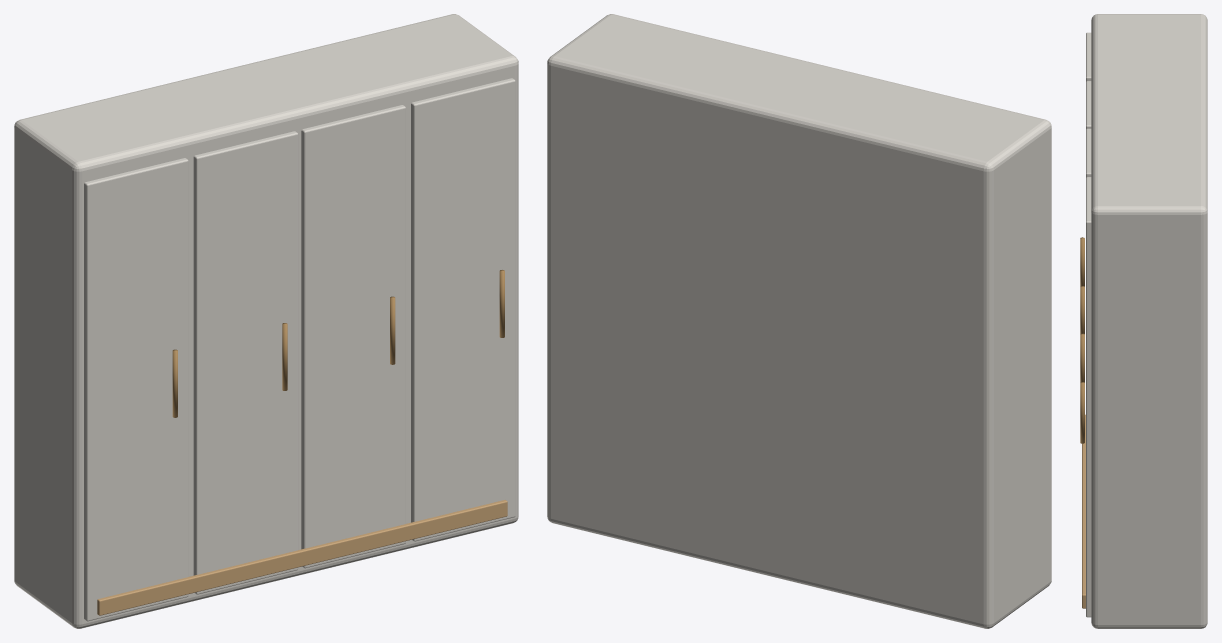
File: wardrobe.glb
3 views of the same model, side by side, from view 1: azimuth 30°, elevation 25°; view 2: azimuth 150°, elevation 25°; view 3: azimuth 270°, elevation 25° (orthographic). The views are drawn at different scales.
Parts seen in each view (by area): view 1: CANONICAL carcass, CANONICAL door 2, CANONICAL door 1, CANONICAL door 4, CANONICAL door 3, ACCENT oak reveal; view 2: CANONICAL carcass; view 3: CANONICAL carcass, CANONICAL door 4, ACCENT oak reveal, ACCENT handle.003, CANONICAL door 1, CANONICAL door 3, CANONICAL door 2, ACCENT handle, ACCENT handle.002, ACCENT handle.001.
Part boxes in pixels (x1=…): CANONICAL carcass: x1=14, y1=14, x2=518, y2=628; CANONICAL door 2: x1=193, y1=131, x2=298, y2=594; CANONICAL door 1: x1=84, y1=158, x2=188, y2=621; CANONICAL door 4: x1=411, y1=78, x2=515, y2=541; CANONICAL door 3: x1=301, y1=105, x2=405, y2=568; ACCENT oak reveal: x1=97, y1=500, x2=507, y2=615; CANONICAL carcass: x1=547, y1=14, x2=1051, y2=628; CANONICAL carcass: x1=1091, y1=14, x2=1207, y2=628; CANONICAL door 4: x1=1086, y1=177, x2=1091, y2=617; ACCENT oak reveal: x1=1082, y1=414, x2=1085, y2=608; ACCENT handle.003: x1=1080, y1=382, x2=1084, y2=443; CANONICAL door 1: x1=1086, y1=32, x2=1091, y2=81; CANONICAL door 3: x1=1086, y1=128, x2=1091, y2=177; CANONICAL door 2: x1=1086, y1=81, x2=1091, y2=128; ACCENT handle: x1=1080, y1=237, x2=1084, y2=286; ACCENT handle.002: x1=1080, y1=333, x2=1084, y2=382; ACCENT handle.001: x1=1080, y1=286, x2=1084, y2=333.
Size of the model in its own units: 2.4 by 2.4 by 0.657.
